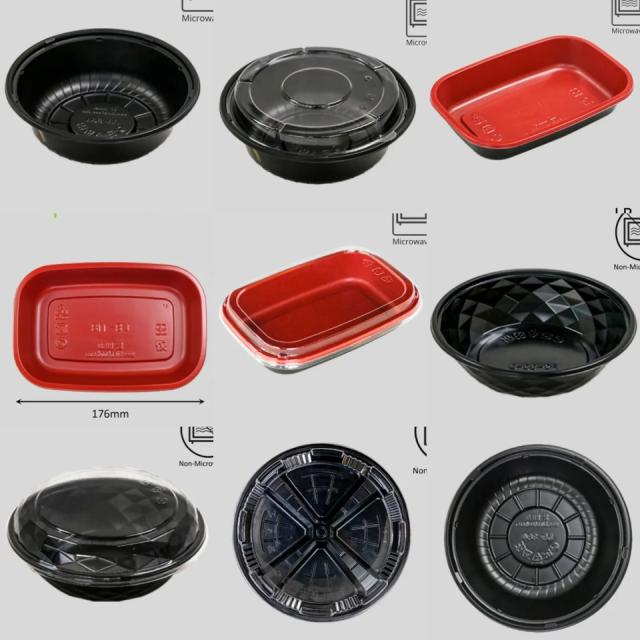Single-Use-Plastic: (445, 445, 631, 631), (234, 445, 409, 621), (5, 29, 200, 163), (220, 48, 415, 182), (8, 468, 205, 600), (431, 270, 635, 396), (430, 35, 634, 159), (221, 250, 421, 372), (14, 264, 206, 391)
